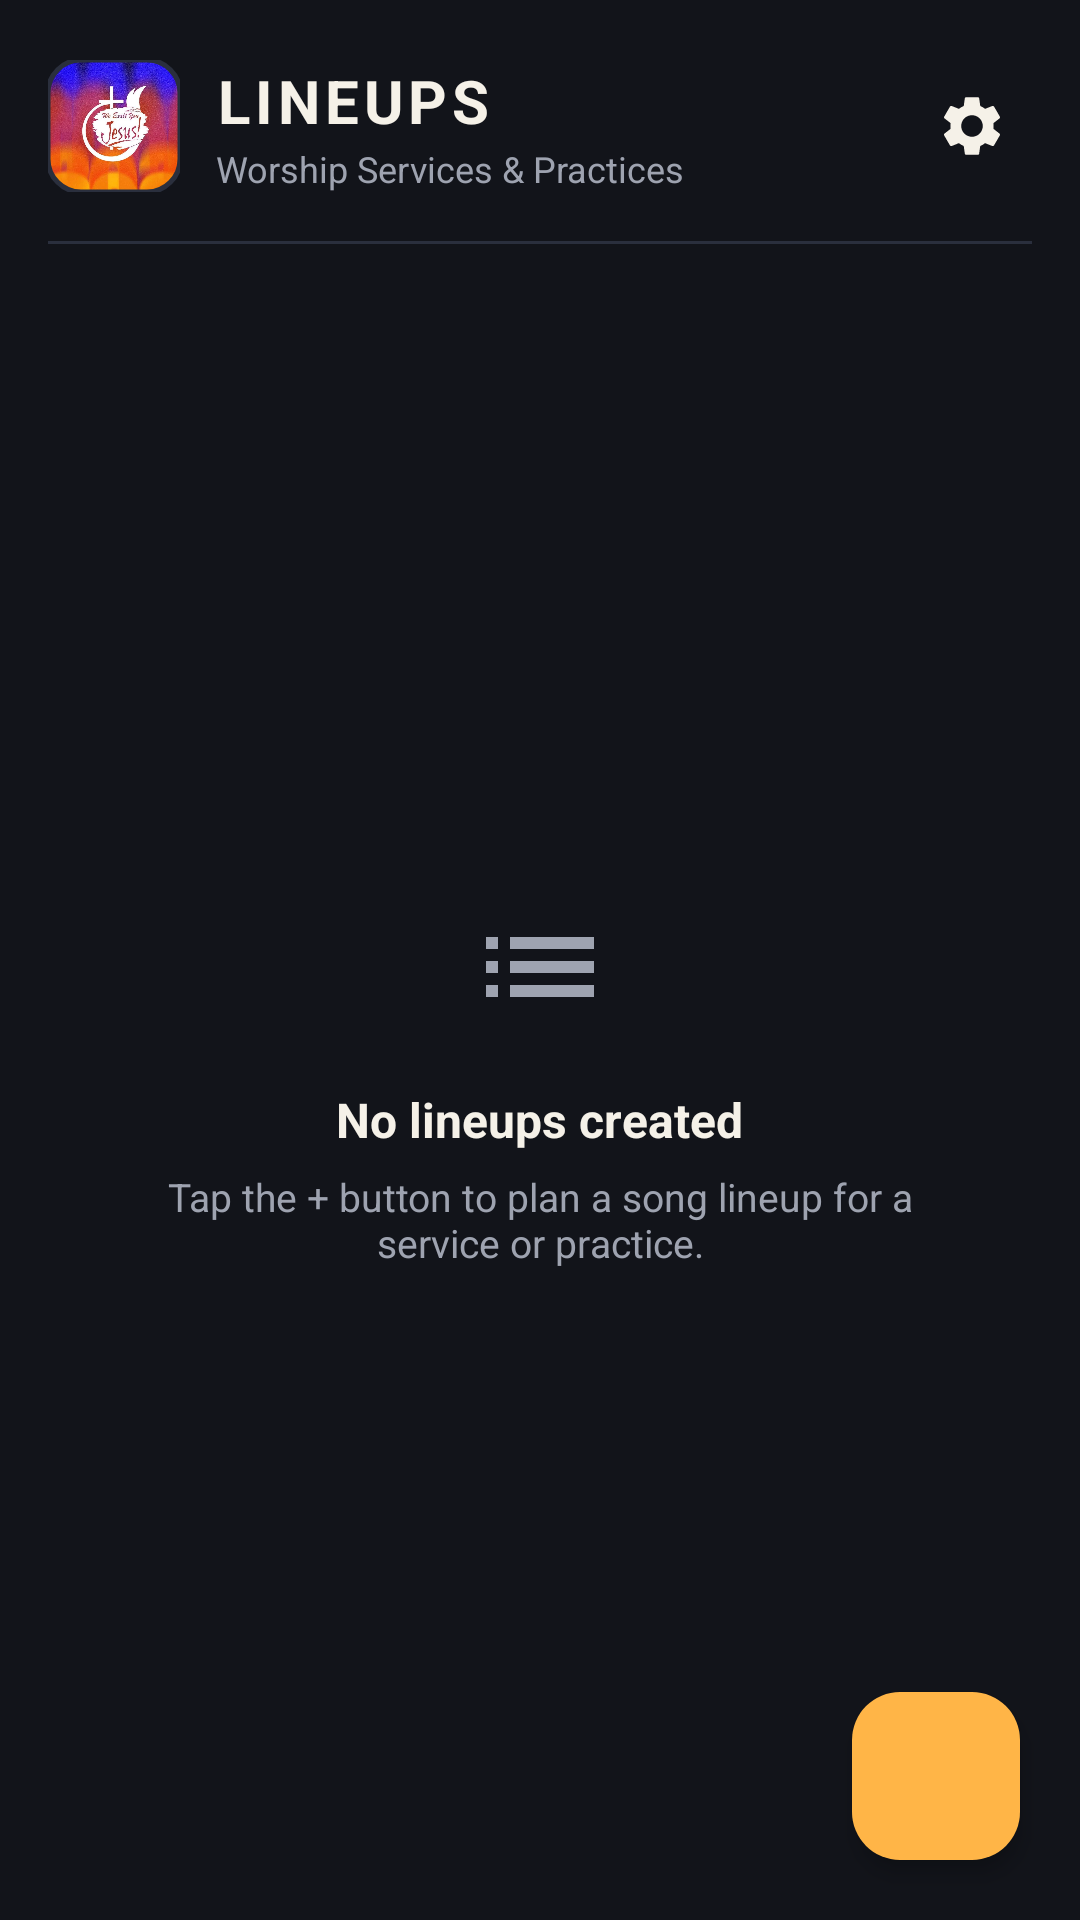

Screen size 1080px×1920px. Icon name, then its box in pixels as (x1,y1,x2,y2):
Settings: (944,97,1000,155)
